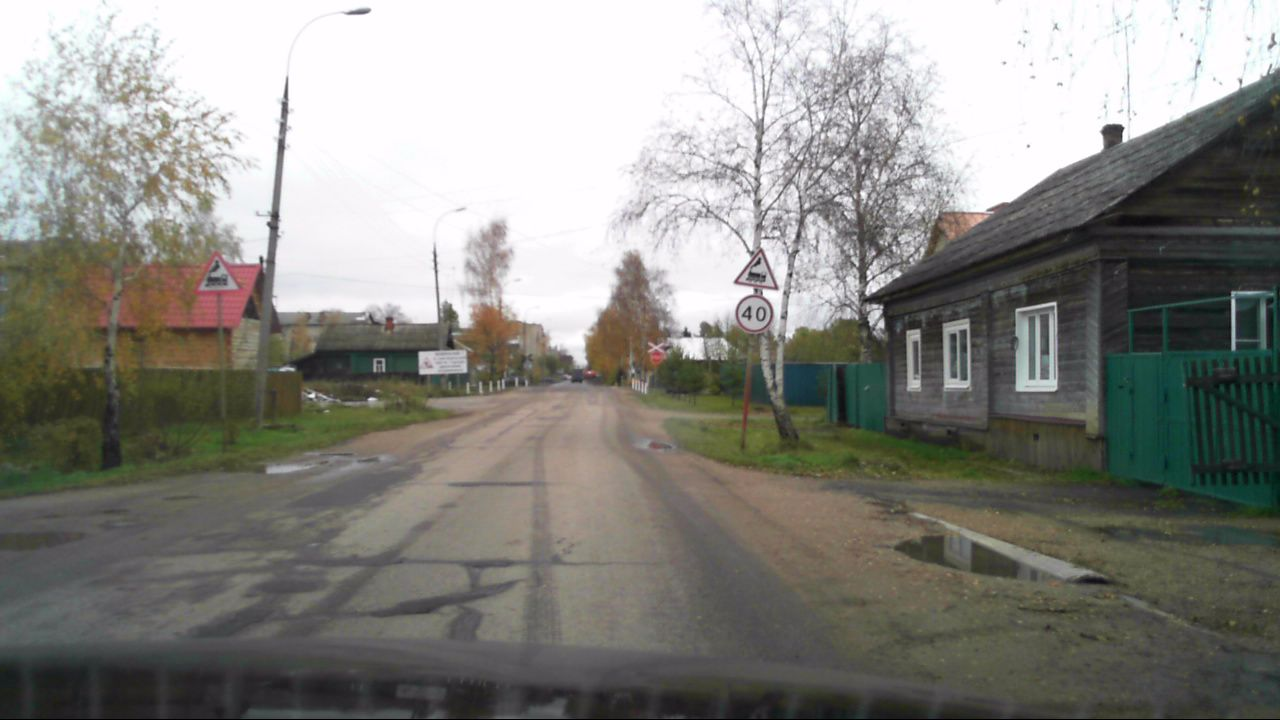speed_warning_40: (735, 294, 774, 334)
